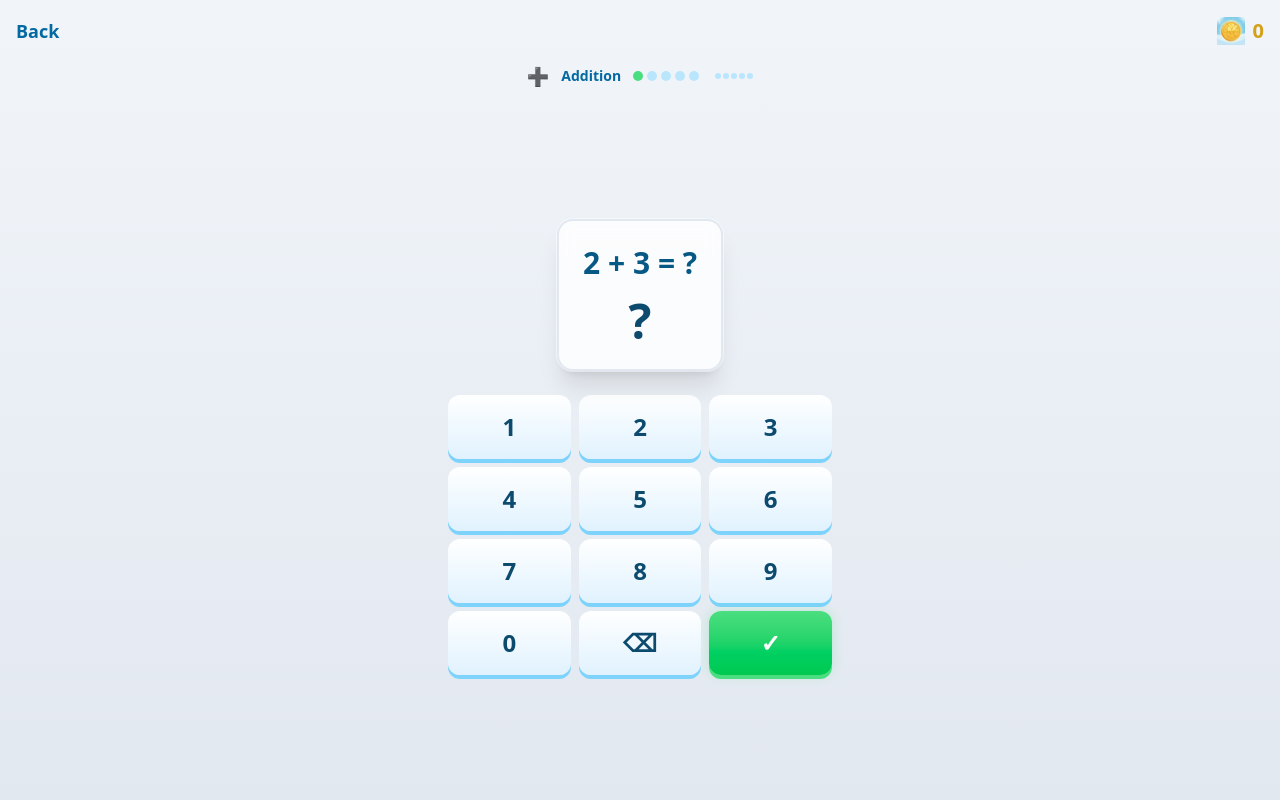
it: PlayScreen › correct answer transitions to CORRECT state (shows celebration)
This screenshot has width=1280, height=800.
Expected: the text "2 + 3 = ?" is shown, [583, 245, 697, 281]
# Type correct answer: 5
Click the button "5" at point(640, 499), box [579, 467, 701, 531]
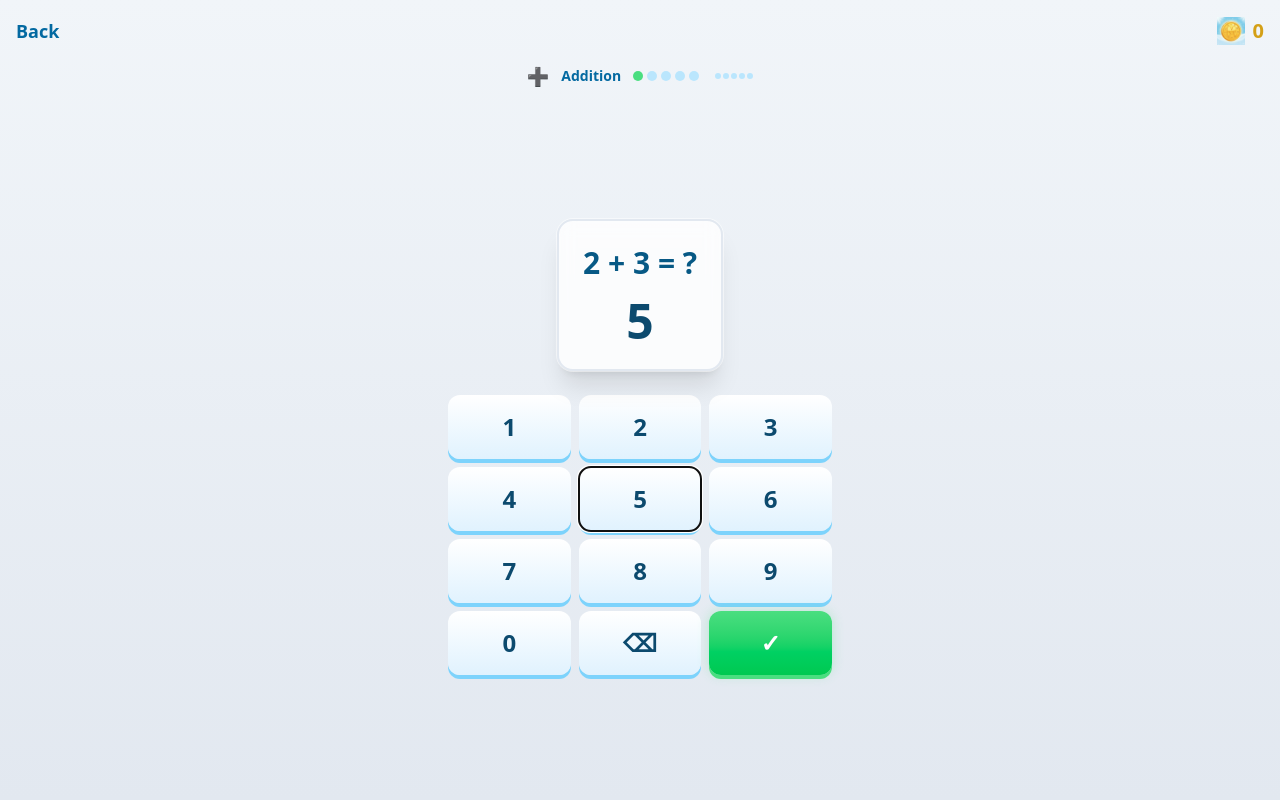
Click the button named "submit" at point(771, 643), box [709, 611, 832, 675]
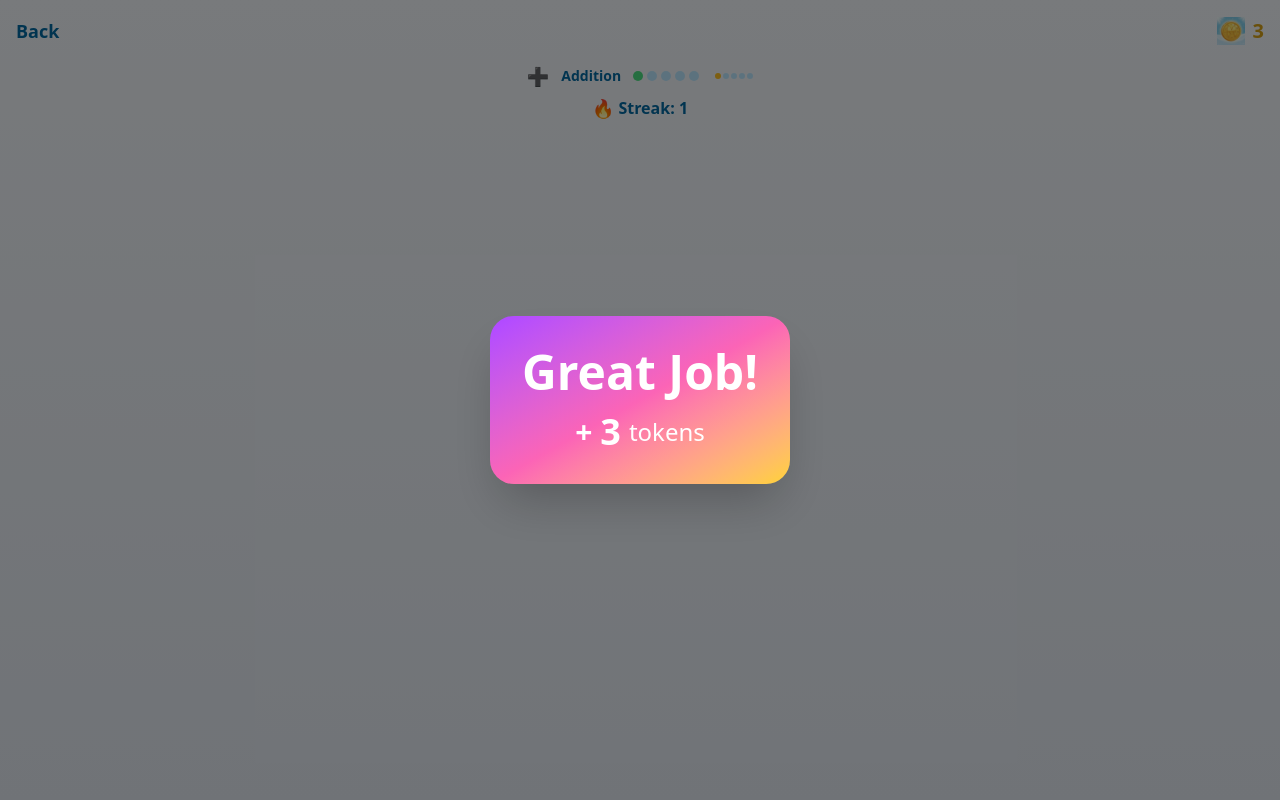
Now the text "Great Job!" is shown, box [522, 348, 758, 396]
